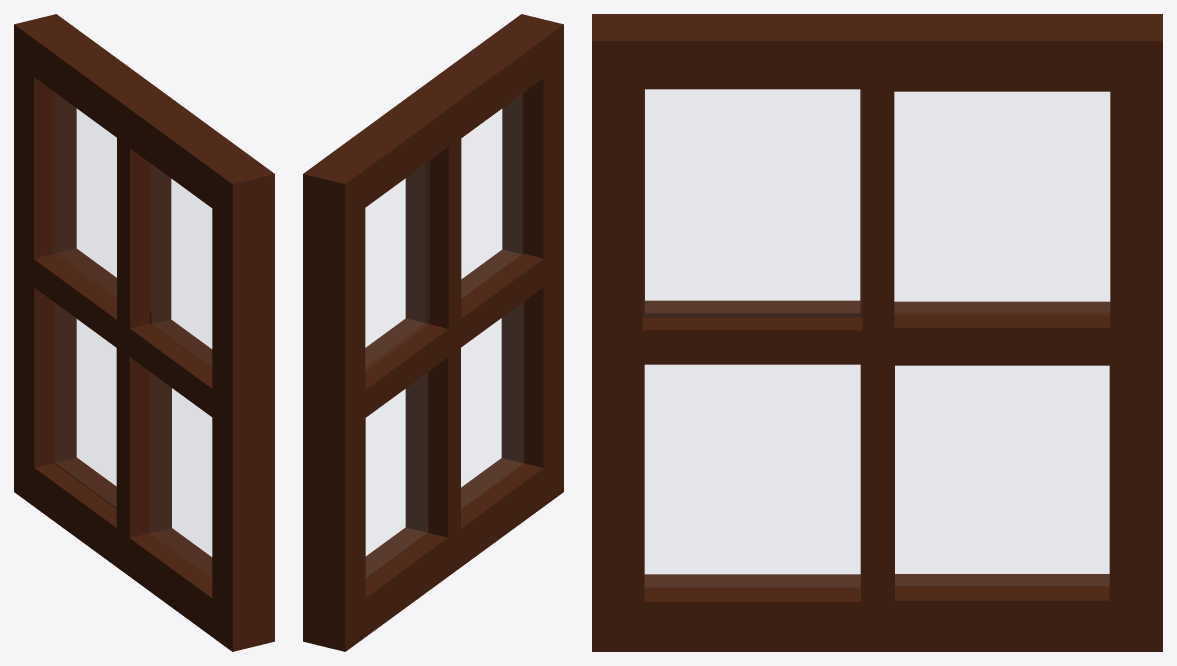
The model's file is window.glb.
3 renders of one model, left to right at view 1: azimuth 30°, elevation 25°; view 2: azimuth 150°, elevation 25°; view 3: azimuth 270°, elevation 25°, orthographic. The views are drawn at different scales.
Parts seen in each view (by area): view 1: Cube; view 2: Cube; view 3: Cube.
Part boxes in pixels (x1,y1,x2,y2): Cube: [14, 14, 274, 651]; Cube: [303, 14, 563, 651]; Cube: [592, 14, 1162, 651].
Size of the model in its own units: 0.1443 by 1.52 by 1.29.
